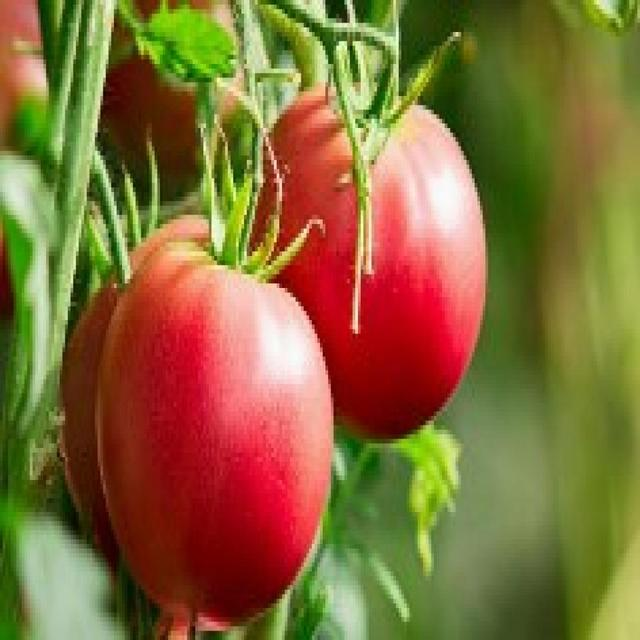Healthy Fruit: (141, 176, 249, 289)
